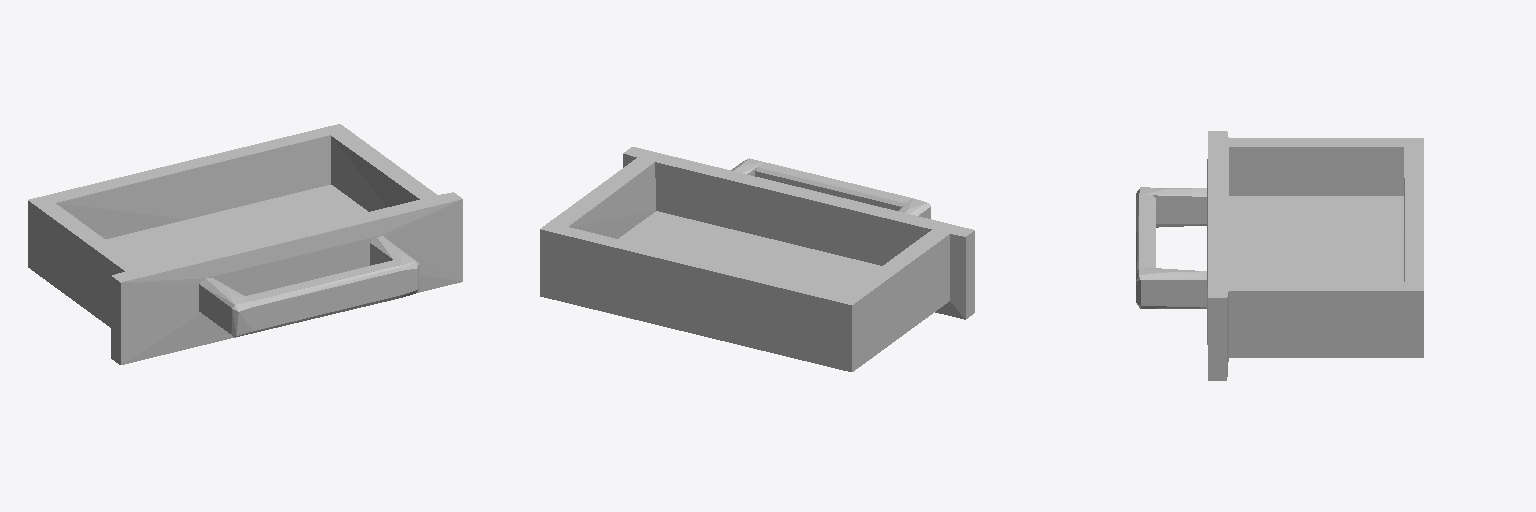
Rendered from drawer_link_vhacd2.obj.
The picture shows the model from 3 angles: view 1: azimuth 30°, elevation 25°; view 2: azimuth 150°, elevation 25°; view 3: azimuth 270°, elevation 25°; orthographic projection.
Parts seen in each view (by area): view 1: convex_0, convex_5, convex_4, convex_1, convex_3, convex_8, convex_2, convex_7, convex_6; view 2: convex_0, convex_1, convex_5, convex_4, convex_3, convex_2, convex_8; view 3: convex_4, convex_2, convex_3, convex_0, convex_6, convex_7, convex_1, convex_8, convex_5.
Boxes of the visible parts, x1=… form: convex_0: x1=111, y1=192, x2=462, y2=364; convex_5: x1=178, y1=128, x2=330, y2=218; convex_4: x1=105, y1=185, x2=367, y2=266; convex_1: x1=28, y1=163, x2=187, y2=273; convex_3: x1=38, y1=203, x2=141, y2=327; convex_8: x1=245, y1=260, x2=402, y2=333; convex_2: x1=321, y1=124, x2=436, y2=211; convex_7: x1=199, y1=278, x2=253, y2=337; convex_6: x1=370, y1=236, x2=418, y2=297; convex_0: x1=623, y1=147, x2=974, y2=319; convex_1: x1=702, y1=262, x2=861, y2=371; convex_5: x1=559, y1=227, x2=710, y2=335; convex_4: x1=619, y1=211, x2=881, y2=293; convex_3: x1=845, y1=230, x2=949, y2=364; convex_2: x1=540, y1=158, x2=655, y2=300; convex_8: x1=755, y1=162, x2=912, y2=210; convex_4: x1=1229, y1=196, x2=1403, y2=281; convex_2: x1=1229, y1=282, x2=1423, y2=357; convex_3: x1=1229, y1=138, x2=1403, y2=195; convex_0: x1=1207, y1=131, x2=1228, y2=380; convex_6: x1=1136, y1=268, x2=1206, y2=308; convex_7: x1=1136, y1=187, x2=1206, y2=227; convex_1: x1=1404, y1=138, x2=1423, y2=236; convex_8: x1=1136, y1=195, x2=1155, y2=270; convex_5: x1=1404, y1=212, x2=1423, y2=281.
Bounding box in the file's own units: 0.5522 × 0.1276 × 0.4026.